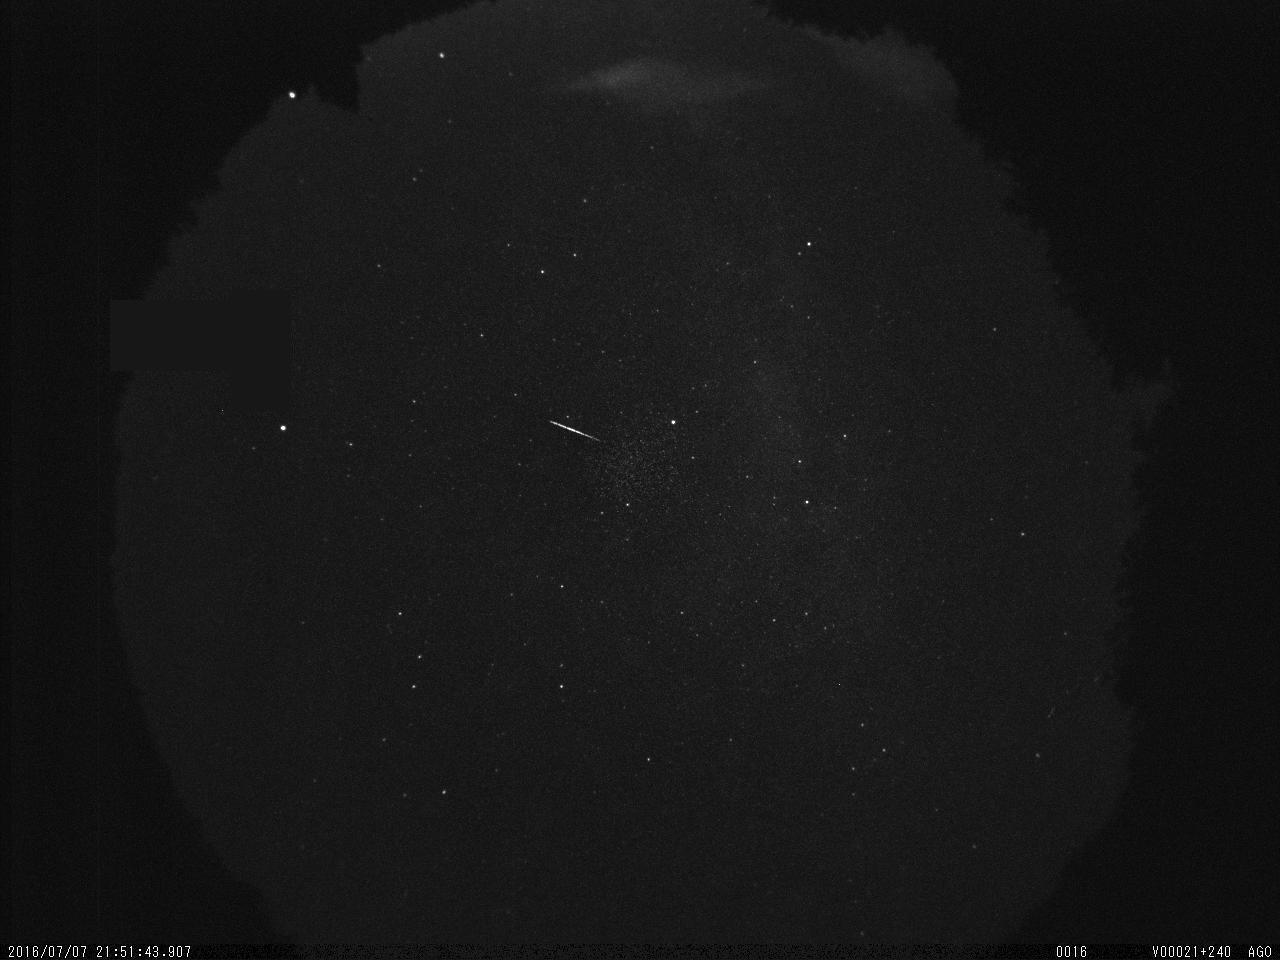meteor: (544, 403, 610, 462)
